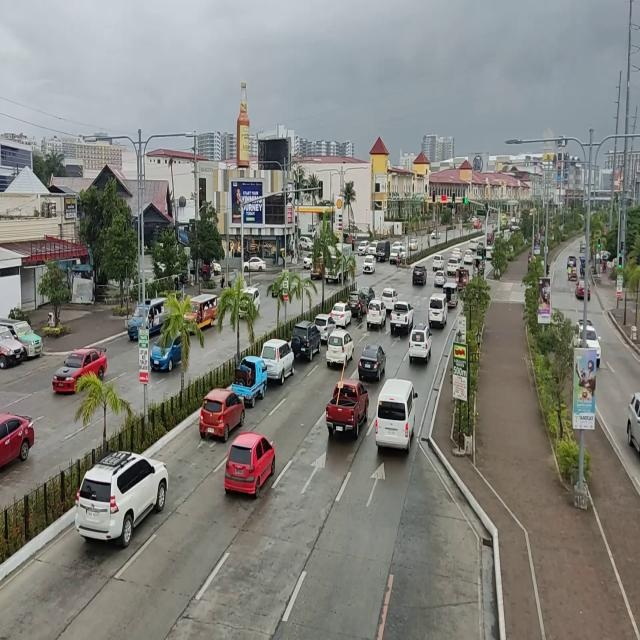Motorcycle: (356, 297, 364, 323), (396, 252, 400, 266)
Truck: (326, 244, 352, 282)
